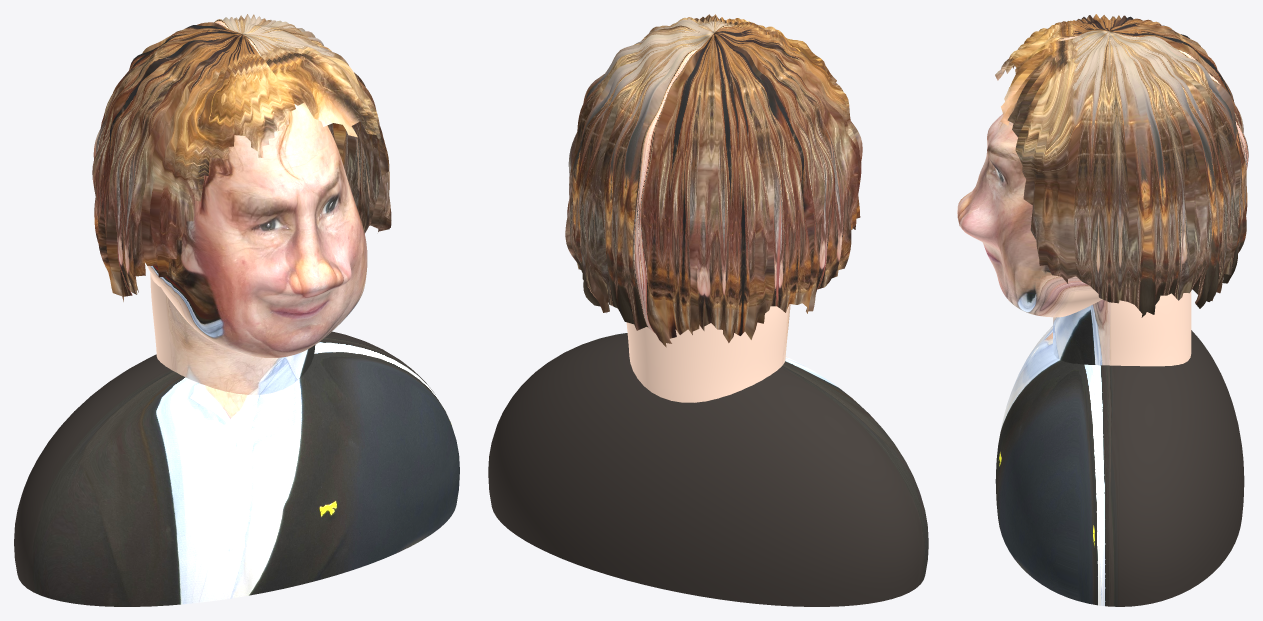
File: gerrrard_3d.glb
The picture shows the model from 3 angles, left to right: view 1: azimuth 30°, elevation 25°; view 2: azimuth 150°, elevation 25°; view 3: azimuth 270°, elevation 25°; orthographic projection. The views are drawn at different scales.
Parts seen in each view (by area): view 1: Face; view 2: Face; view 3: Face.
Part boxes in pixels (<box>): Face: <box>14,14,459,606</box>; Face: <box>488,14,928,606</box>; Face: <box>957,14,1248,606</box>.
Size of the model in its own units: 0.43 by 0.4903 by 0.2693.
Materials: 1 (1 with a texture image).
